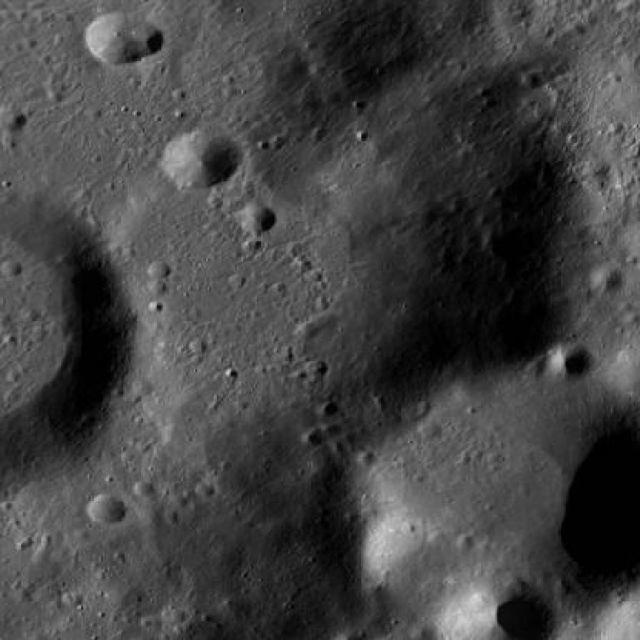crater: (108, 154, 342, 343), (362, 518, 452, 591), (163, 127, 242, 190), (86, 10, 154, 64), (548, 342, 596, 380), (88, 492, 130, 526), (126, 26, 166, 56), (240, 203, 278, 234), (380, 39, 418, 70), (590, 263, 627, 294), (0, 106, 26, 134), (584, 158, 610, 180), (410, 621, 436, 640), (294, 322, 318, 342), (314, 312, 338, 331), (522, 69, 544, 88), (150, 260, 172, 278), (316, 399, 338, 416), (553, 582, 573, 600), (420, 420, 440, 438), (1, 259, 22, 276), (300, 428, 322, 444), (166, 608, 187, 624), (134, 480, 154, 496)
